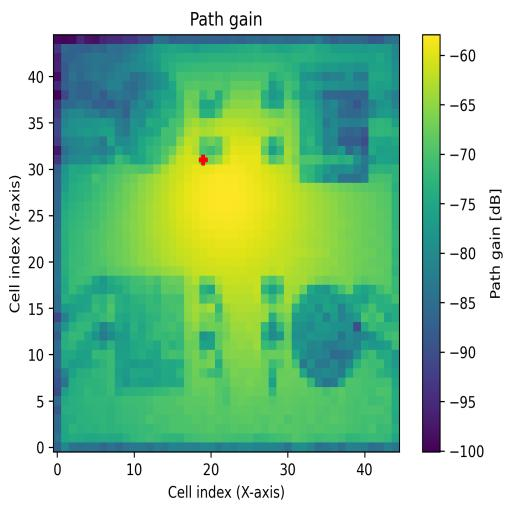Concrete: (300, 62, 369, 182)
Glass: (116, 66, 184, 165)
Metal: (292, 286, 362, 386)
Wood: (114, 276, 184, 388)
